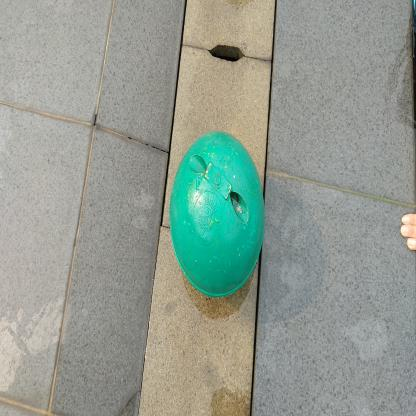green_buoy: (161, 127, 270, 315)
